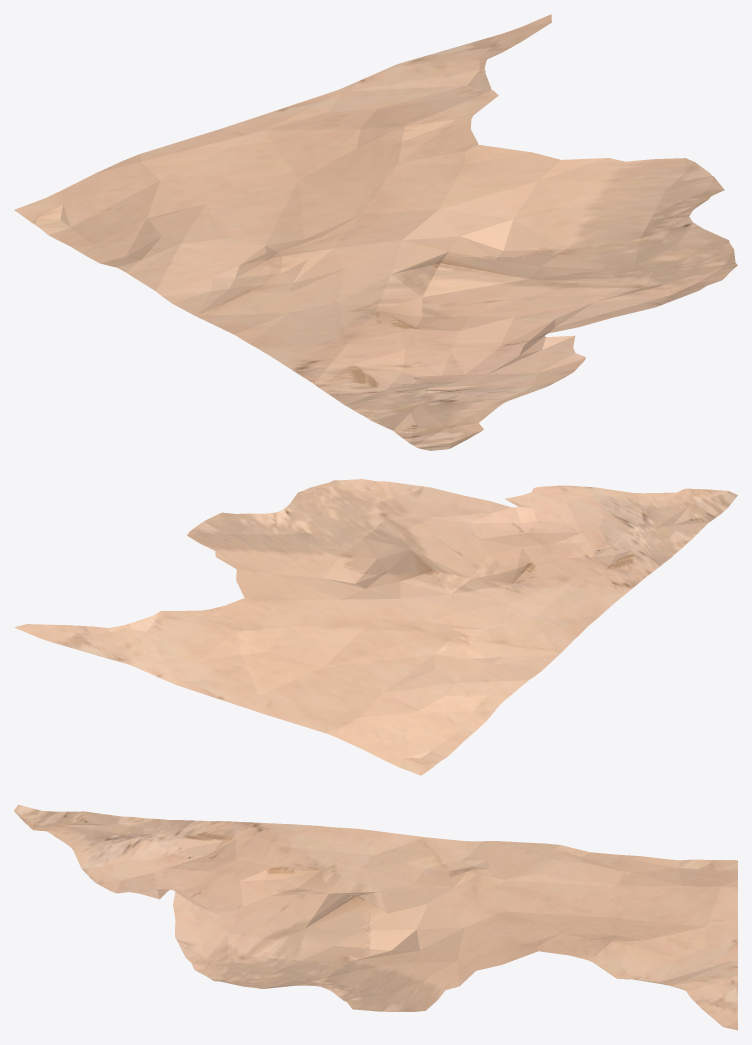
3 views of the same model, one above another, from view 1: azimuth 30°, elevation 25°; view 2: azimuth 150°, elevation 25°; view 3: azimuth 270°, elevation 25° (orthographic). The views are drawn at different scales.
Bounding box in the file's own units: 1.51 × 0.1737 × 2.04.
1 material, 1 textured.
